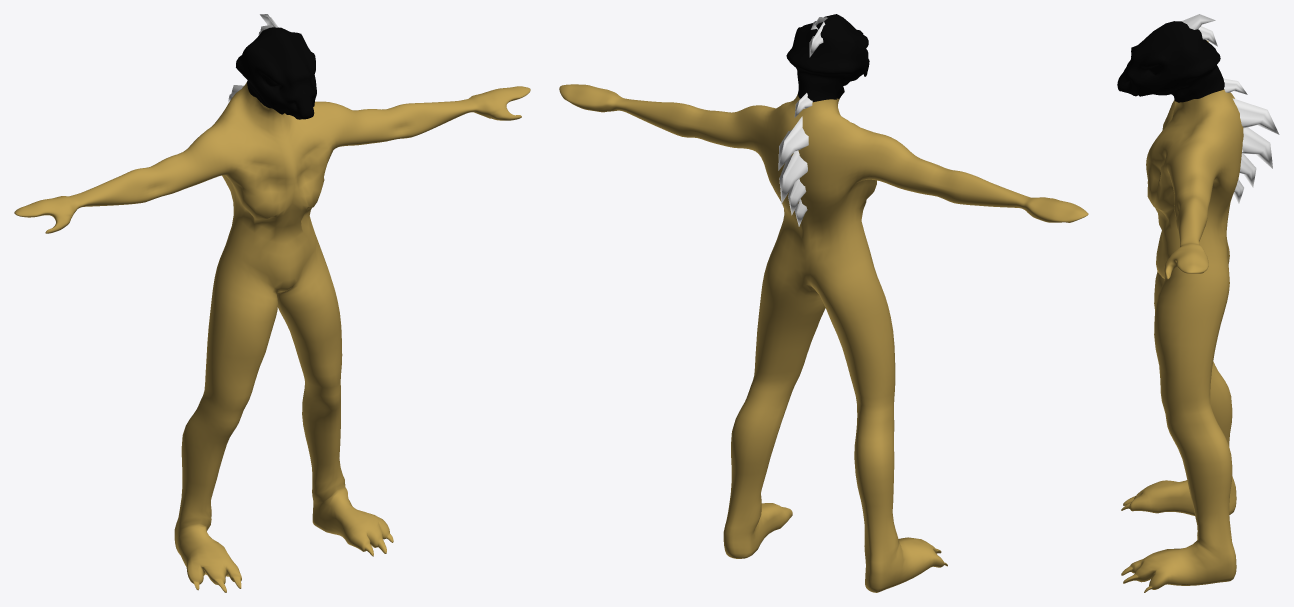
Rendered from hood_enemy.fbx.
The picture shows the model from 3 angles, left to right: view 1: azimuth 30°, elevation 25°; view 2: azimuth 150°, elevation 25°; view 3: azimuth 270°, elevation 25°; orthographic projection. The views are drawn at different scales.
Parts seen in each view (by area): view 1: Cube.003; view 2: Cube.003, Cylinder.001, Cylinder; view 3: Cube.003, Cylinder, Cylinder.001, Cylinder.002, Cylinder.005, Cylinder.004.
Part boxes in pixels (x1,y1,x2,y2): Cube.003: (14,27,530,592); Cube.003: (559,14,1088,592); Cylinder.001: (779,150,807,203); Cylinder: (778,116,808,170); Cube.003: (1117,21,1243,592); Cylinder: (1232,98,1279,134); Cylinder.001: (1242,127,1272,168); Cylinder.002: (1239,153,1256,187); Cylinder.005: (1181,14,1215,29); Cylinder.004: (1223,78,1247,94).
Bounding box in the file's own units: 184 × 182 × 50.28.
